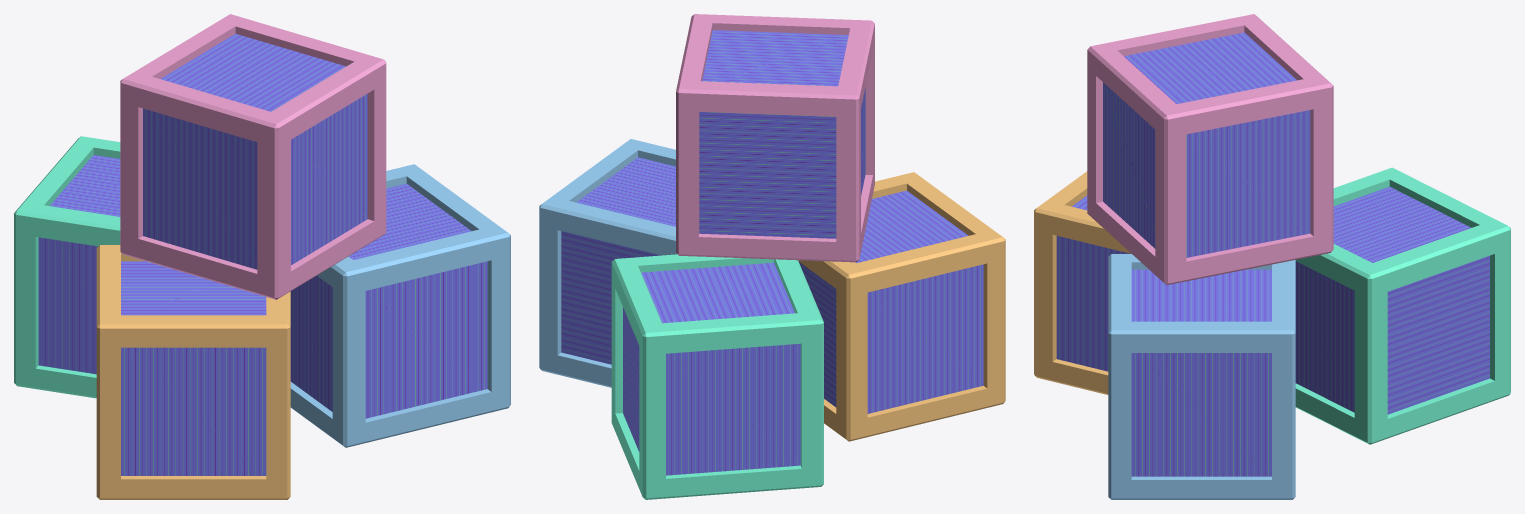
The model's file is WoodBlocks_Group_A_01.FBX.
3 renders of one model, left to right at view 1: azimuth 30°, elevation 25°; view 2: azimuth 150°, elevation 25°; view 3: azimuth 270°, elevation 25°, orthographic. The views are drawn at different scales.
Parts seen in each view (by area): view 1: WoodBlocks_Group_A_Rough_01, WoodBlocks_Group_A_01; view 2: WoodBlocks_Group_A_Rough_01, WoodBlocks_Group_A_01; view 3: WoodBlocks_Group_A_Rough_01, WoodBlocks_Group_A_01.
Boxes of the visible parts, box(x1,y1,x2,y2) form: WoodBlocks_Group_A_Rough_01: box(38, 33, 487, 475); WoodBlocks_Group_A_01: box(14, 14, 510, 499); WoodBlocks_Group_A_Rough_01: box(561, 30, 983, 475); WoodBlocks_Group_A_01: box(539, 14, 1005, 499); WoodBlocks_Group_A_Rough_01: box(1056, 32, 1489, 476); WoodBlocks_Group_A_01: box(1034, 14, 1510, 499).
Bounding box in the file's own units: 2.9 × 2.4 × 3.06.
